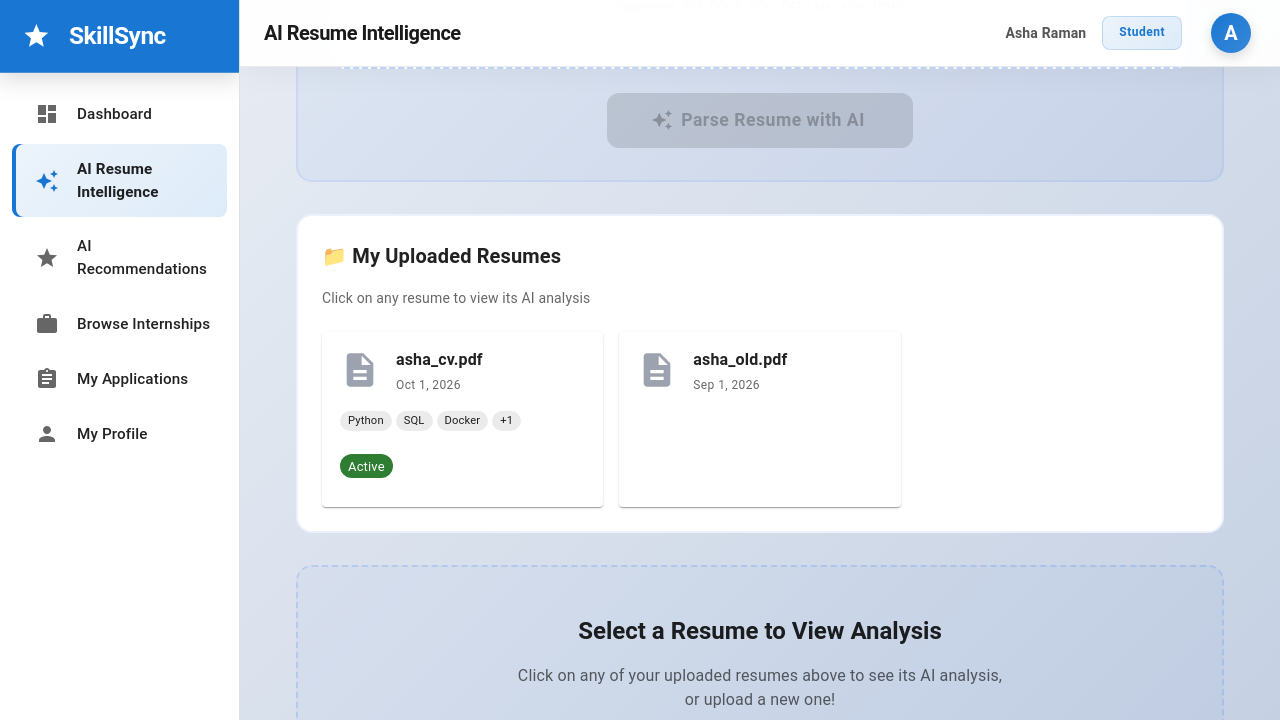
opening a resume activates it, shows the analysis and saves skills to the profile
(page scrolled)
Click the heading "asha_old.pdf".
click(740, 359)  # box [693,350,787,369]
(page scrolled)
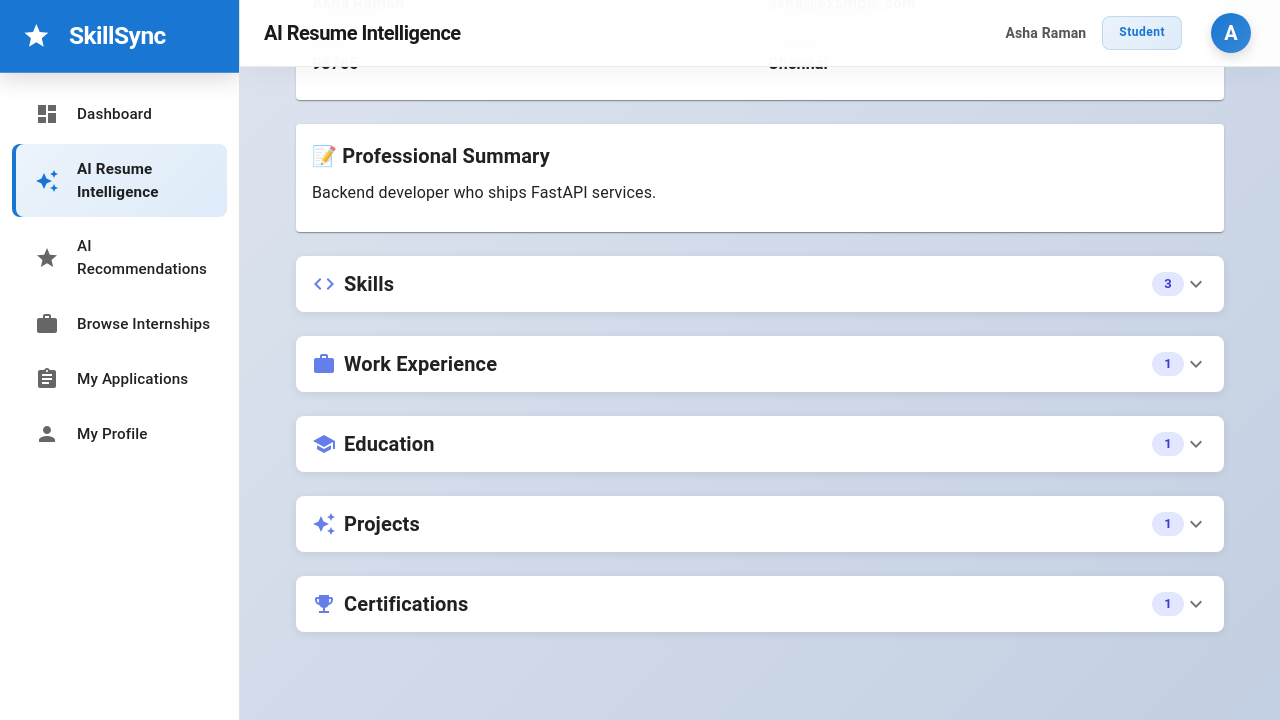
Check: the text "Backend developer who ships FastAPI services." is shown, box [312,183,656,202]
